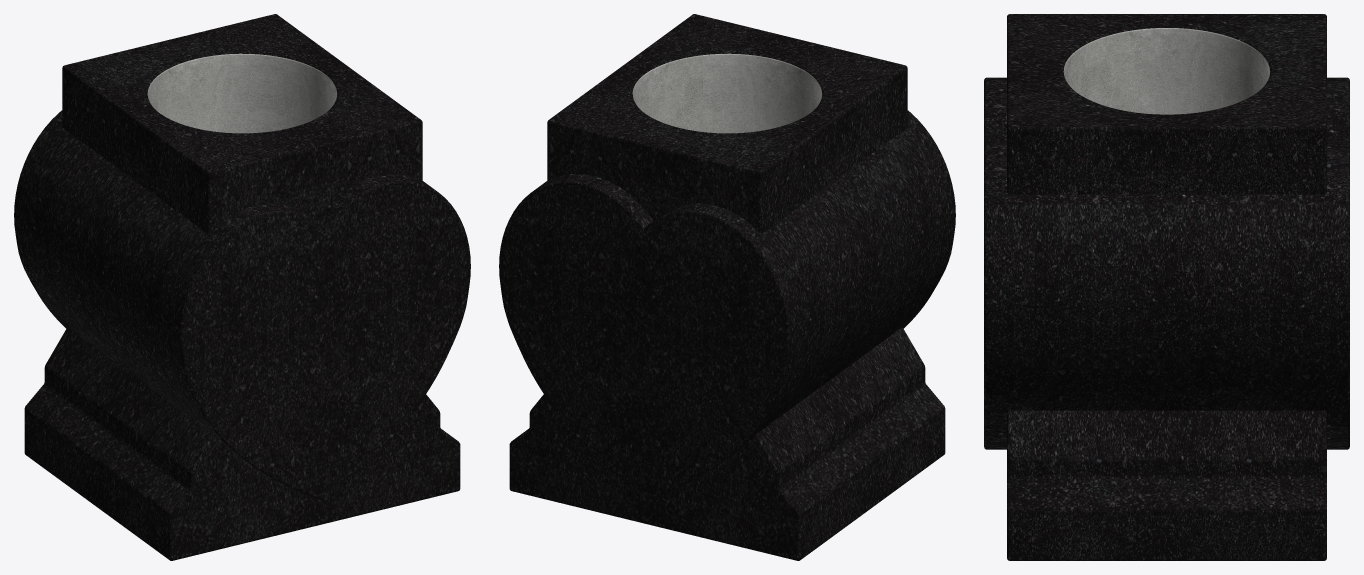
Rendered from Vase 2.gltf.
3 views of the same model, side by side, from view 1: azimuth 30°, elevation 25°; view 2: azimuth 150°, elevation 25°; view 3: azimuth 270°, elevation 25° (orthographic). The views are drawn at different scales.
Visible parts, largest first — view 1: Cube.044; view 2: Cube.044; view 3: Cube.044.
Boxes of the visible parts, <box> form: Cube.044: <box>14,14,470,560</box>; Cube.044: <box>499,14,955,560</box>; Cube.044: <box>984,14,1349,560</box>.
Size of the model in its own units: 0.16 by 0.2 by 0.16.
2 materials, 2 textured.
